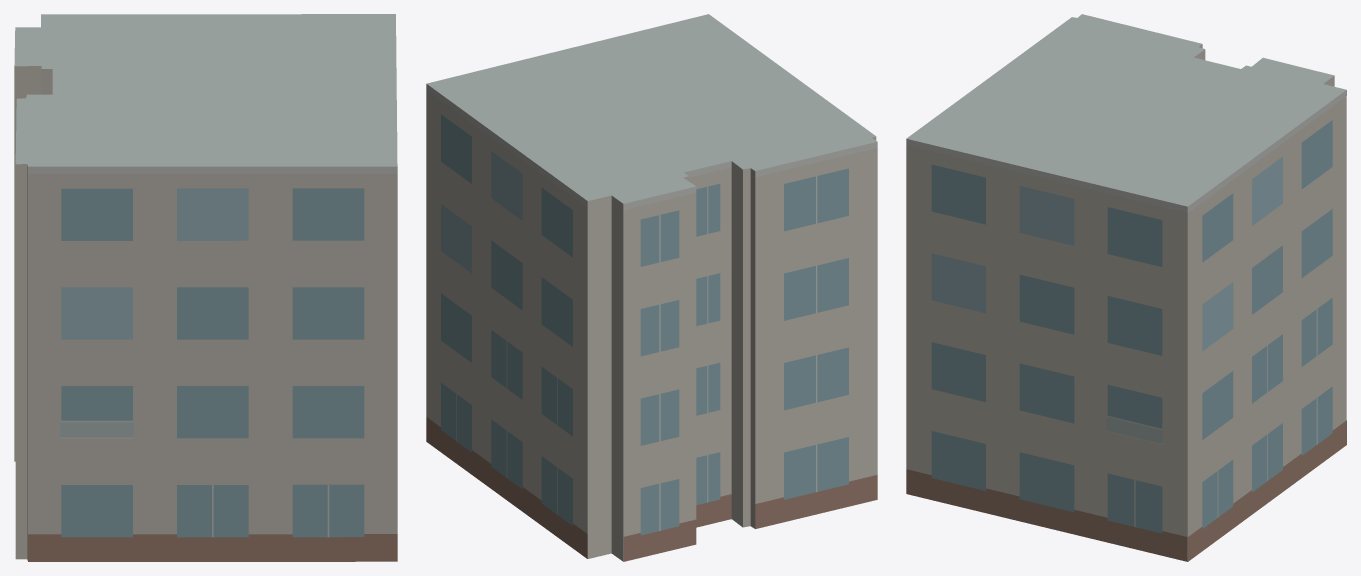
Rendered from survey-upis-32826798.glb.
3 renders of one model, left to right at view 1: azimuth 30°, elevation 25°; view 2: azimuth 150°, elevation 25°; view 3: azimuth 270°, elevation 25°, orthographic. The views are drawn at different scales.
Visible parts, largest first — view 1: survey-upis-32826798.tmp; view 2: survey-upis-32826798.tmp; view 3: survey-upis-32826798.tmp.
Boxes of the visible parts, <box> form: survey-upis-32826798.tmp: <box>14,14,397,561</box>; survey-upis-32826798.tmp: <box>426,14,877,561</box>; survey-upis-32826798.tmp: <box>906,14,1346,561</box>.
Bounding box in the file's own units: 16 × 13.75 × 15.46.
